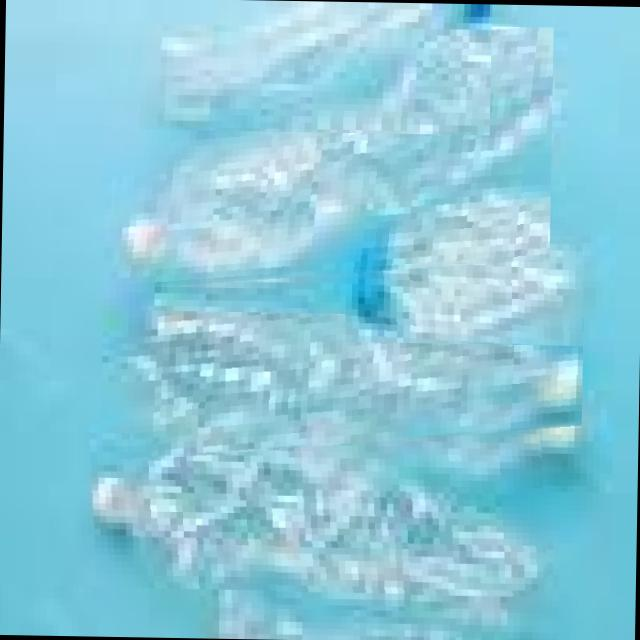plastic bottle: (104, 18, 554, 297), (74, 422, 552, 612), (127, 308, 584, 468), (138, 0, 491, 134), (344, 222, 584, 344)
